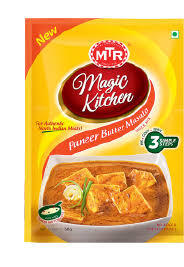VEG: (169, 29, 179, 39)
